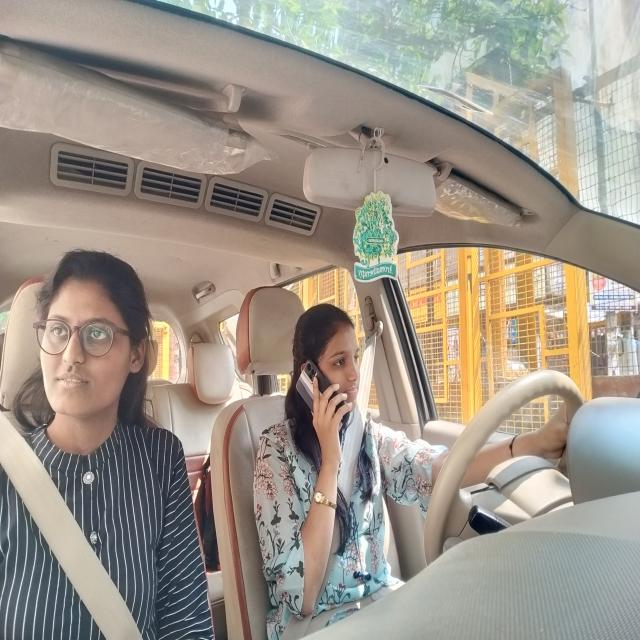mobile: (296, 359, 354, 437)
person: (33, 245, 152, 439), (292, 303, 365, 441)
